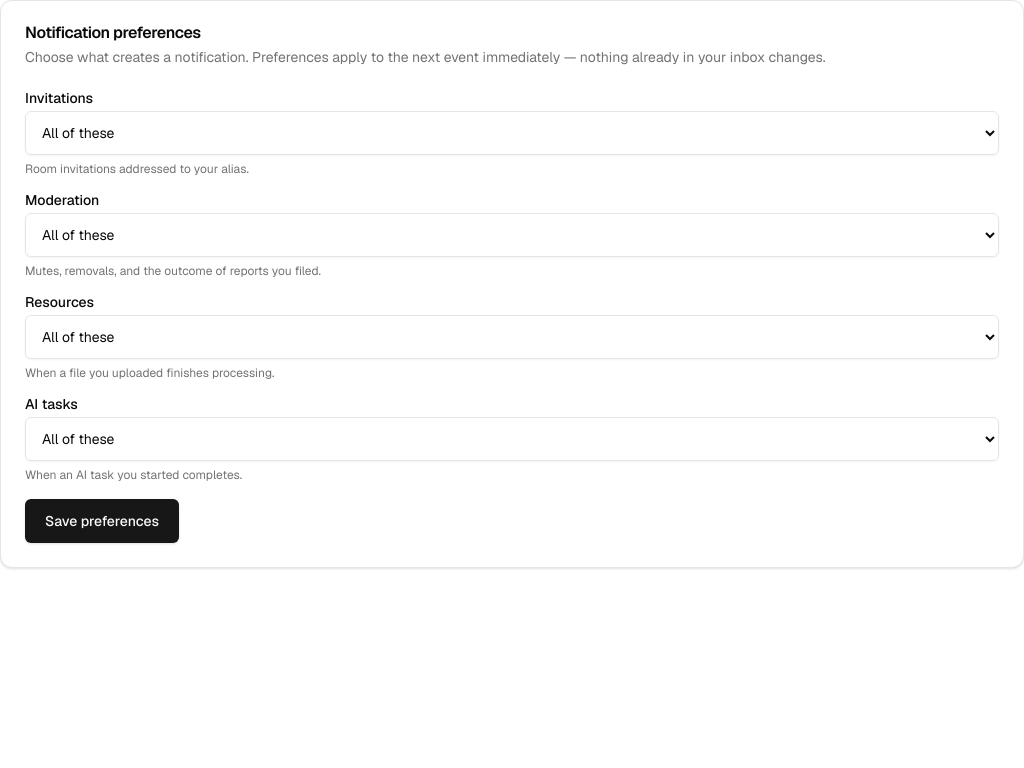
Test: PreferencesForm › PATCHes the partial body and confirms in the live region
This screenshot has width=1024, height=768.
Select "None" in the dropdown labelled "Moderation". click: (512, 235)
box: top-left (25, 213), bottom-right (999, 257)
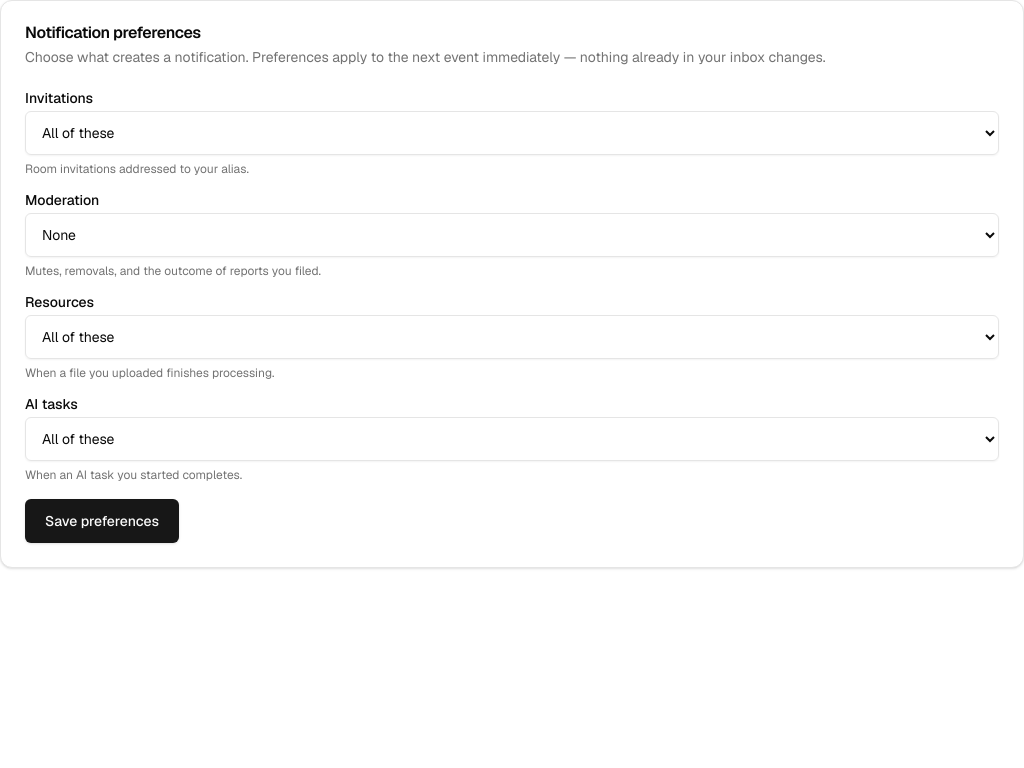
Click the button "Save preferences". click: (102, 521)
box: top-left (25, 499), bottom-right (179, 543)
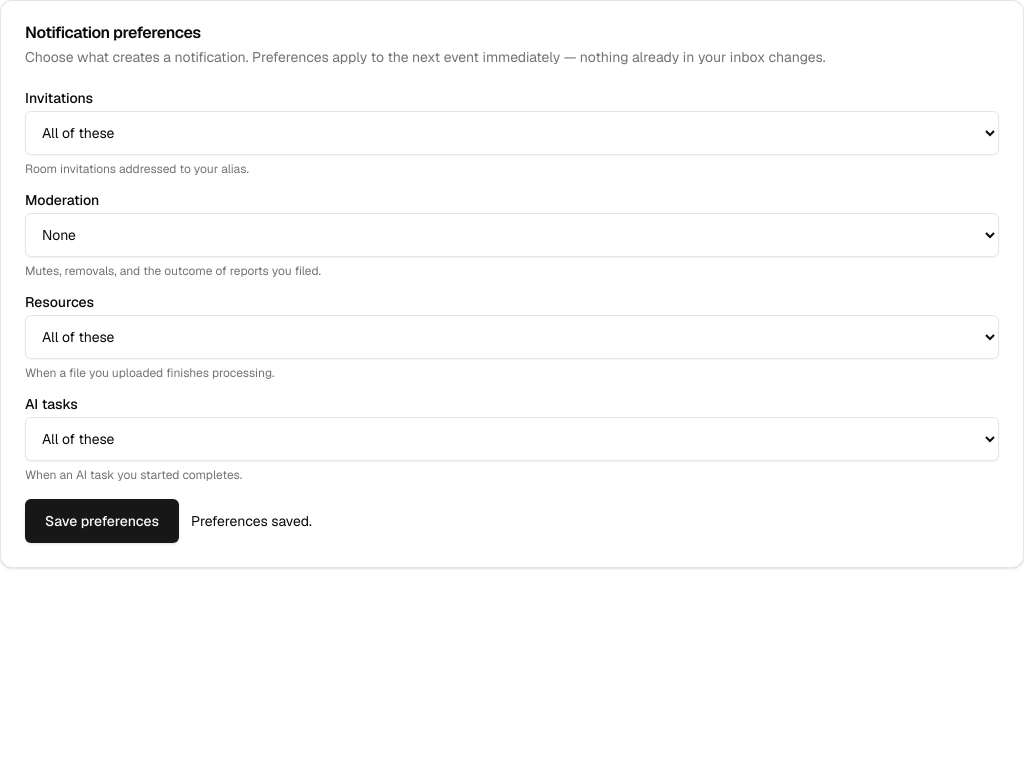
Expected: the message with test id "prefs-status" reads "Preferences saved.", top-left (191, 512), bottom-right (312, 530)
